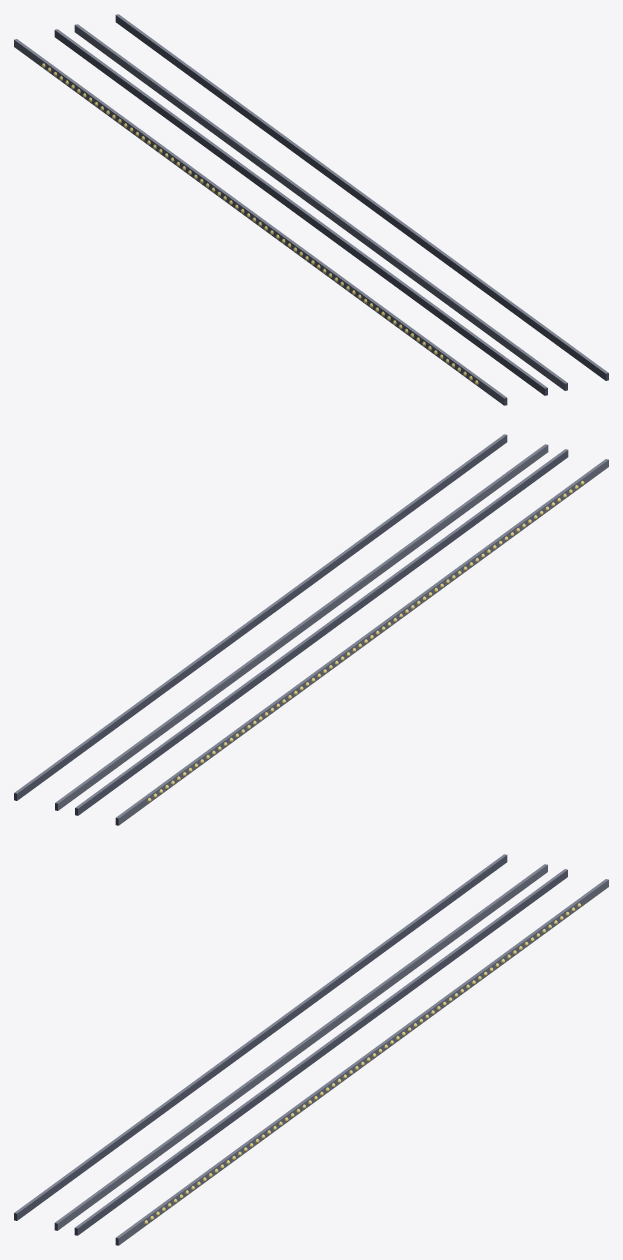
Rendered from squidgame_props_glassbridge.fbx.
The picture shows the model from 3 angles, top to bottom: view 1: azimuth 30°, elevation 25°; view 2: azimuth 150°, elevation 25°; view 3: azimuth 330°, elevation 25°; orthographic projection.
Visible parts, largest first — view 1: squidgame_props_glassbridge, squidgame_props_glassbridge_light; view 2: squidgame_props_glassbridge, squidgame_props_glassbridge_light; view 3: squidgame_props_glassbridge, squidgame_props_glassbridge_light.
Boxes of the visible parts, x1=… form: squidgame_props_glassbridge: x1=14, y1=14, x2=608, y2=405; squidgame_props_glassbridge_light: x1=41, y1=63, x2=478, y2=384; squidgame_props_glassbridge: x1=14, y1=434, x2=608, y2=825; squidgame_props_glassbridge_light: x1=147, y1=480, x2=584, y2=802; squidgame_props_glassbridge: x1=14, y1=854, x2=608, y2=1245; squidgame_props_glassbridge_light: x1=144, y1=903, x2=581, y2=1224.
Bounding box in the file's own units: 3.76 × 0.2394 × 29.25.
